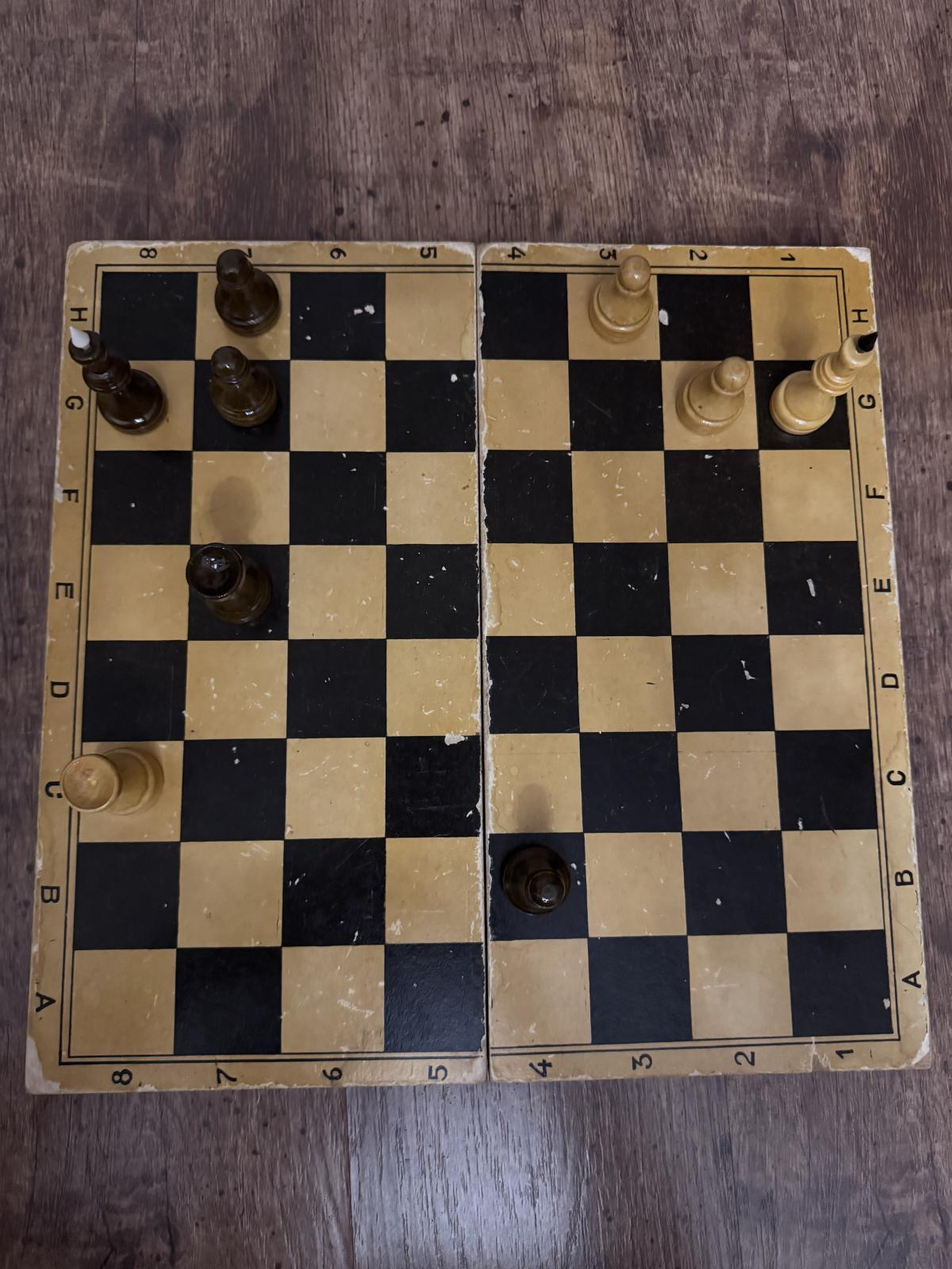Chess-Board: (69, 272, 892, 1056)
